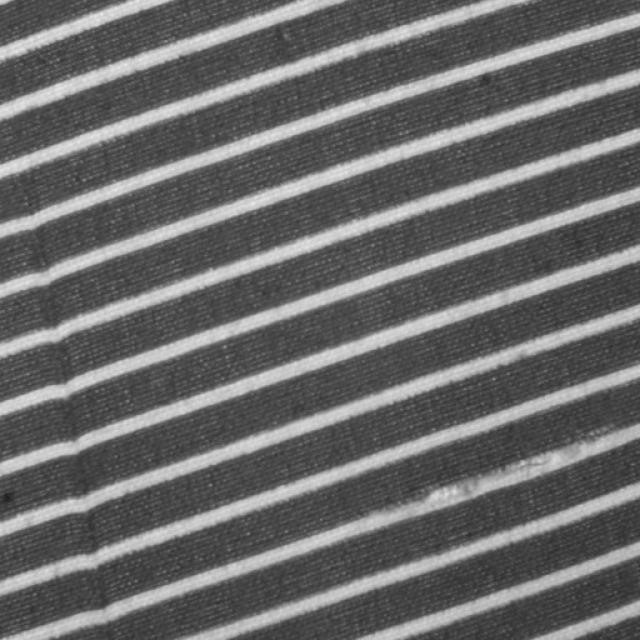Thread-Defect: (16, 171, 134, 639)
